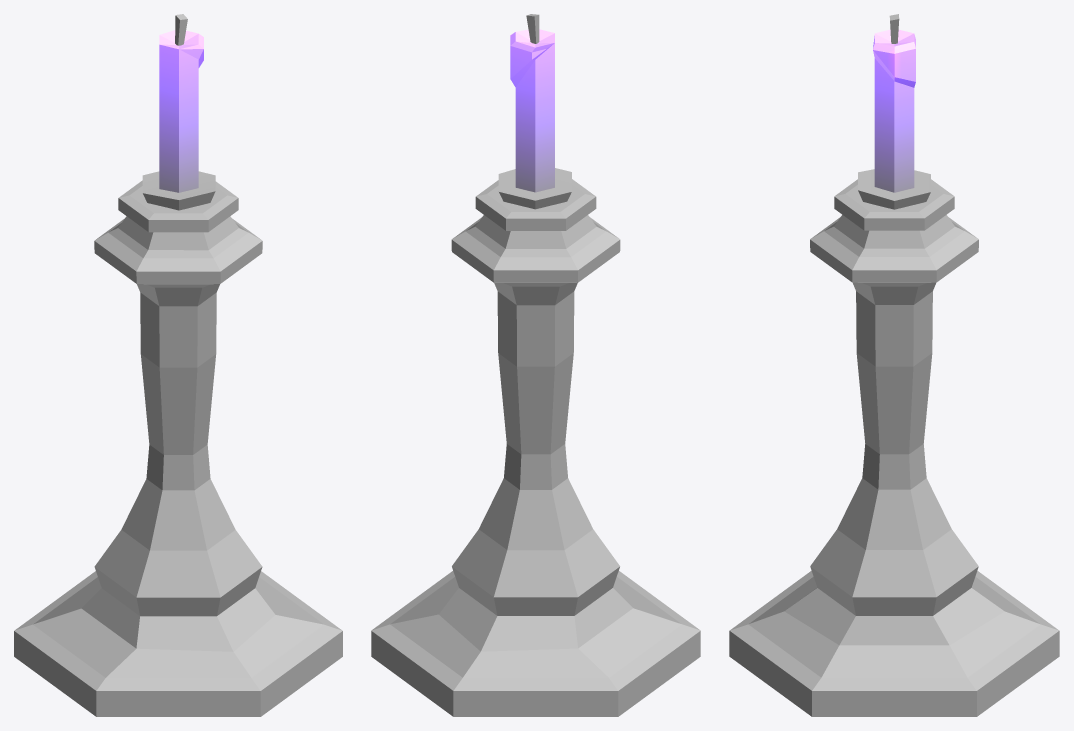
File: SM_Prop_Candle_Stand_02.fbx
The picture shows the model from 3 angles, left to right: view 1: azimuth 30°, elevation 25°; view 2: azimuth 150°, elevation 25°; view 3: azimuth 270°, elevation 25°; orthographic projection.
Parts seen in each view (by area): view 1: SM_Prop_Candle_Stand_02; view 2: SM_Prop_Candle_Stand_02; view 3: SM_Prop_Candle_Stand_02.
Part boxes in pixels (x1,y1,x2,y2): SM_Prop_Candle_Stand_02: (14,14,342,716); SM_Prop_Candle_Stand_02: (371,14,700,716); SM_Prop_Candle_Stand_02: (729,14,1059,716).
Size of the model in its own units: 32.61 by 81.71 by 37.68.
